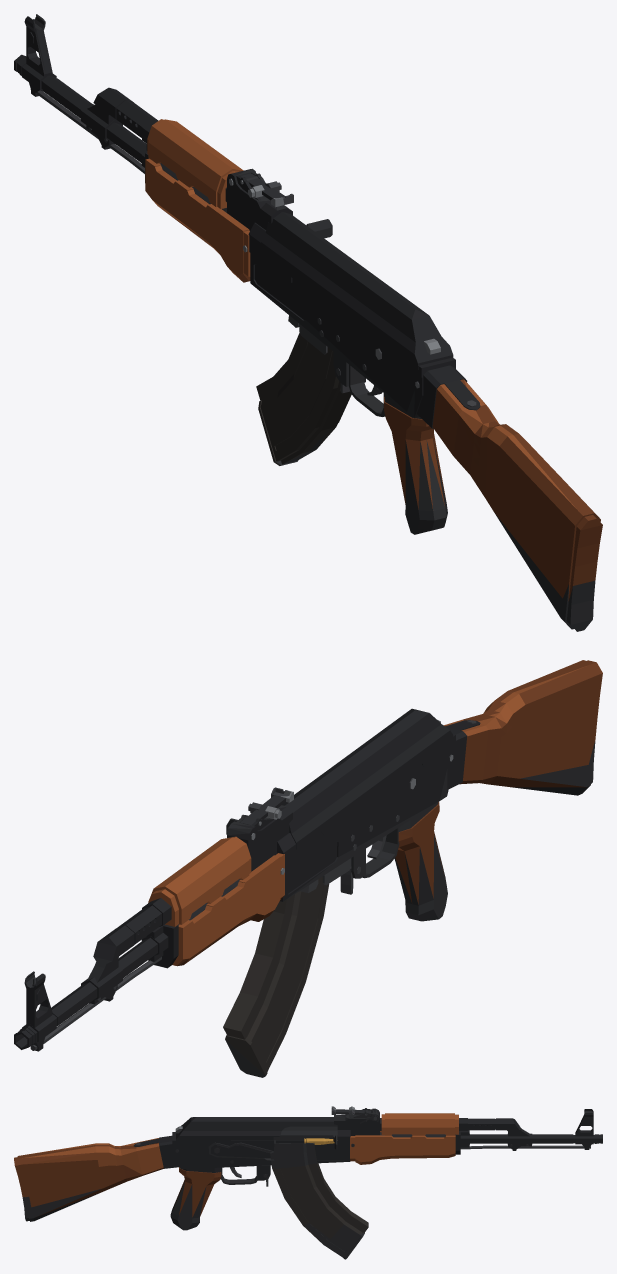
3 views of the same model, one above another, from view 1: azimuth 30°, elevation 25°; view 2: azimuth 150°, elevation 25°; view 3: azimuth 270°, elevation 25° (orthographic). The views are drawn at different scales.
Visible parts, largest first — view 1: ak47, ak47_mag; view 2: ak47, ak47_mag; view 3: ak47, ak47_mag.
Boxes of the visible parts, x1,y1,x2,y2 form: ak47: [14, 14, 602, 631]; ak47_mag: [256, 332, 351, 465]; ak47: [14, 660, 602, 1051]; ak47_mag: [223, 876, 329, 1077]; ak47: [14, 1106, 602, 1230]; ak47_mag: [270, 1140, 368, 1259].
Bounding box in the file's own units: 0.0639 × 0.2386 × 0.88.
1 material, 1 textured.
